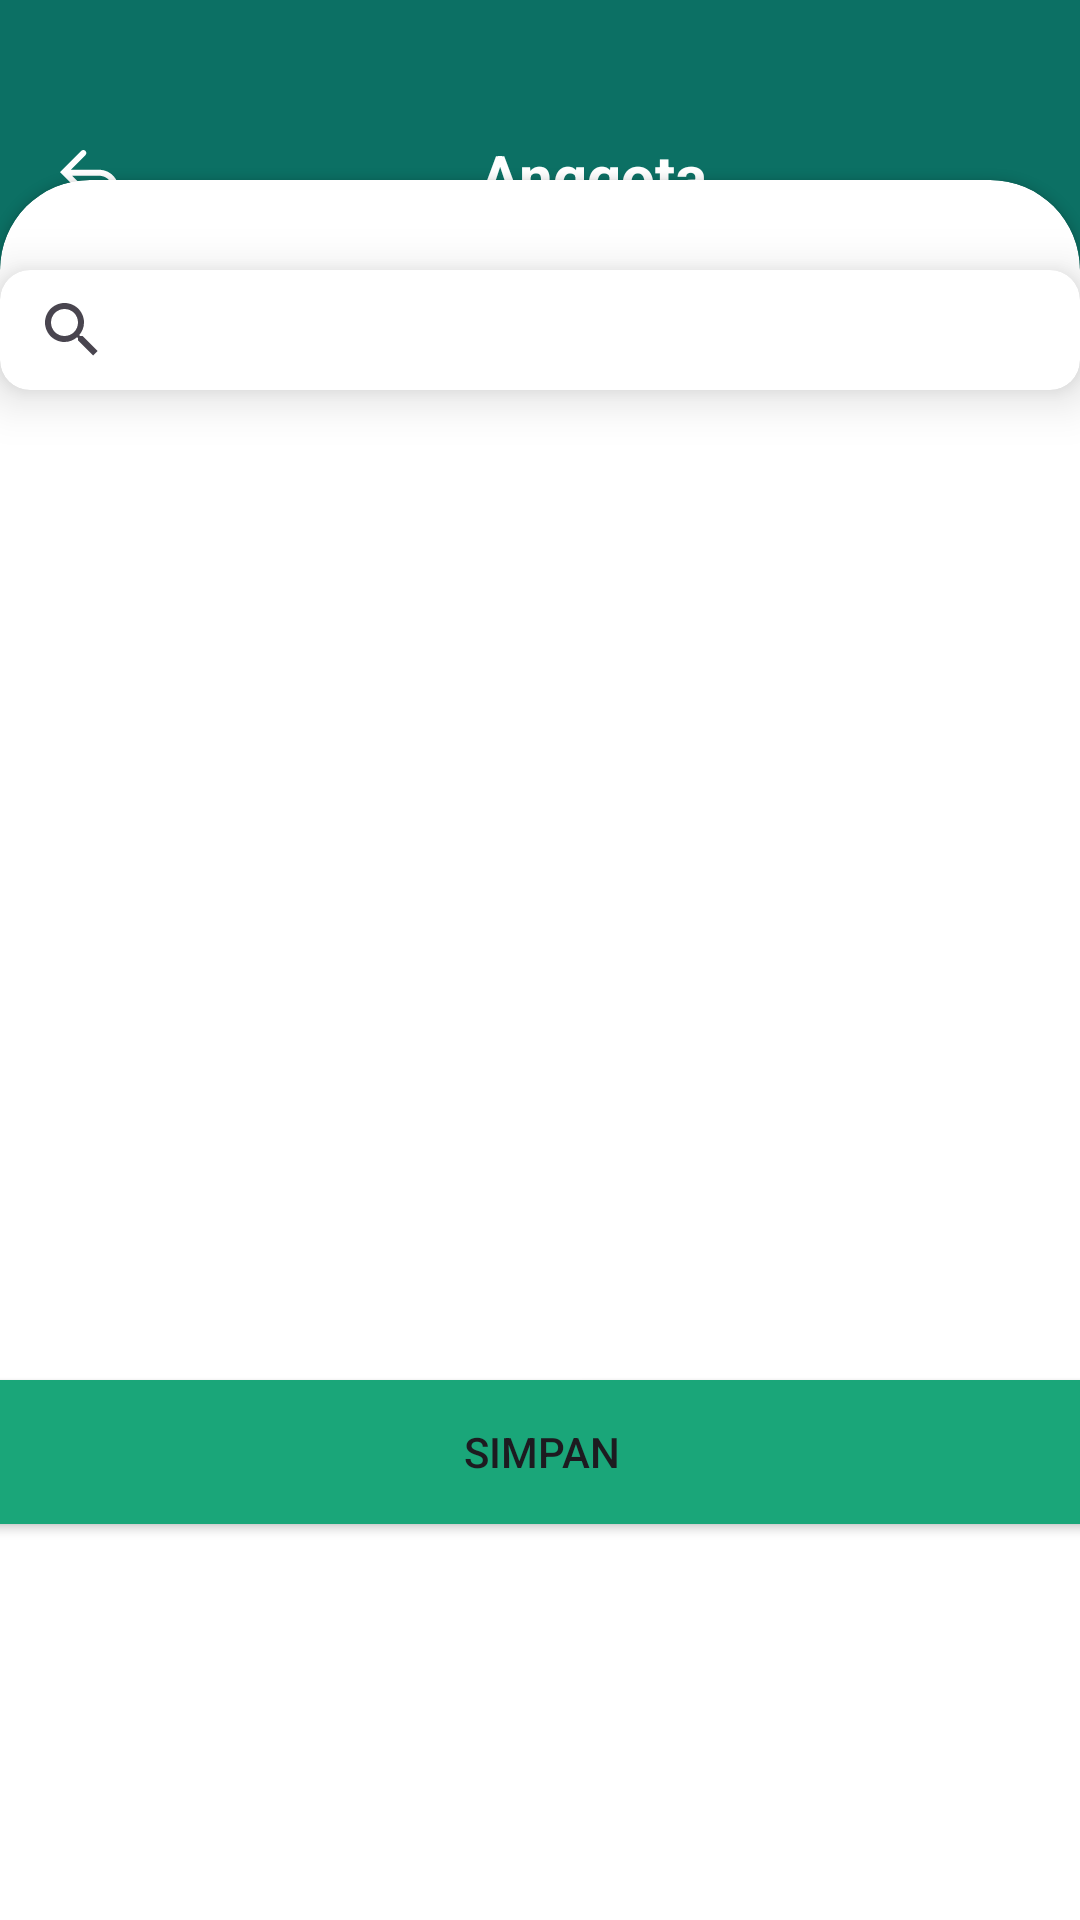

Named icons in this screenshot (1080px×1920px) and their centers, [x,y]:
backbutton: [90,180]
